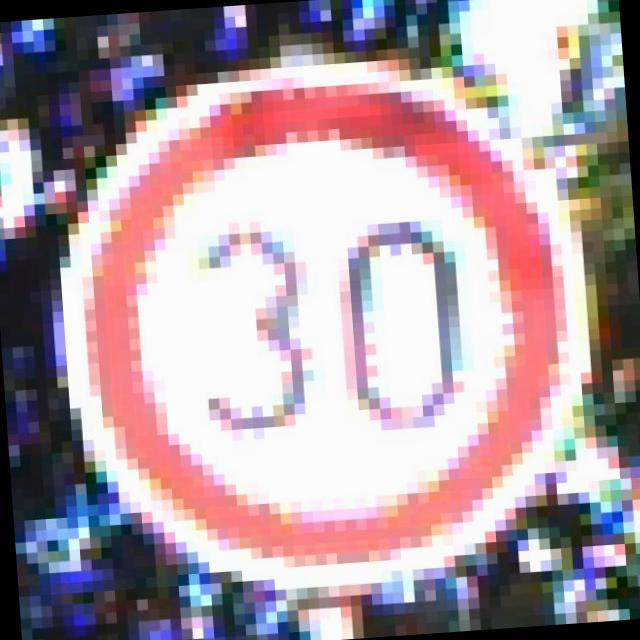Ograniczenie predkosci do 30: (52, 56, 594, 597)
